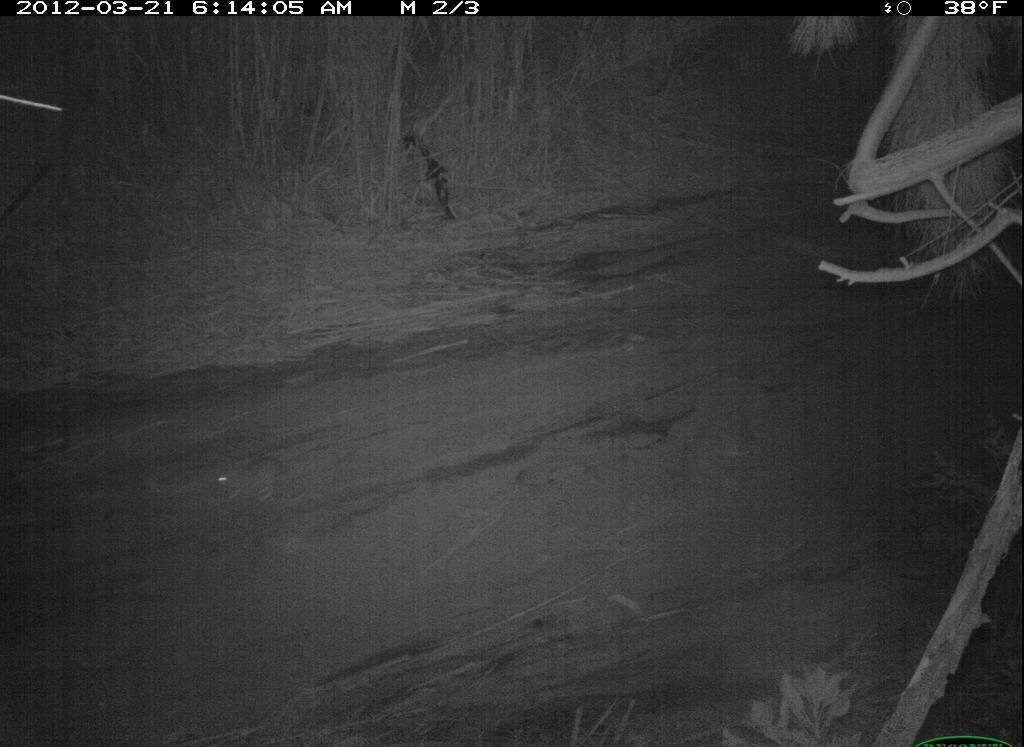rabbit: (201, 441, 303, 515)
